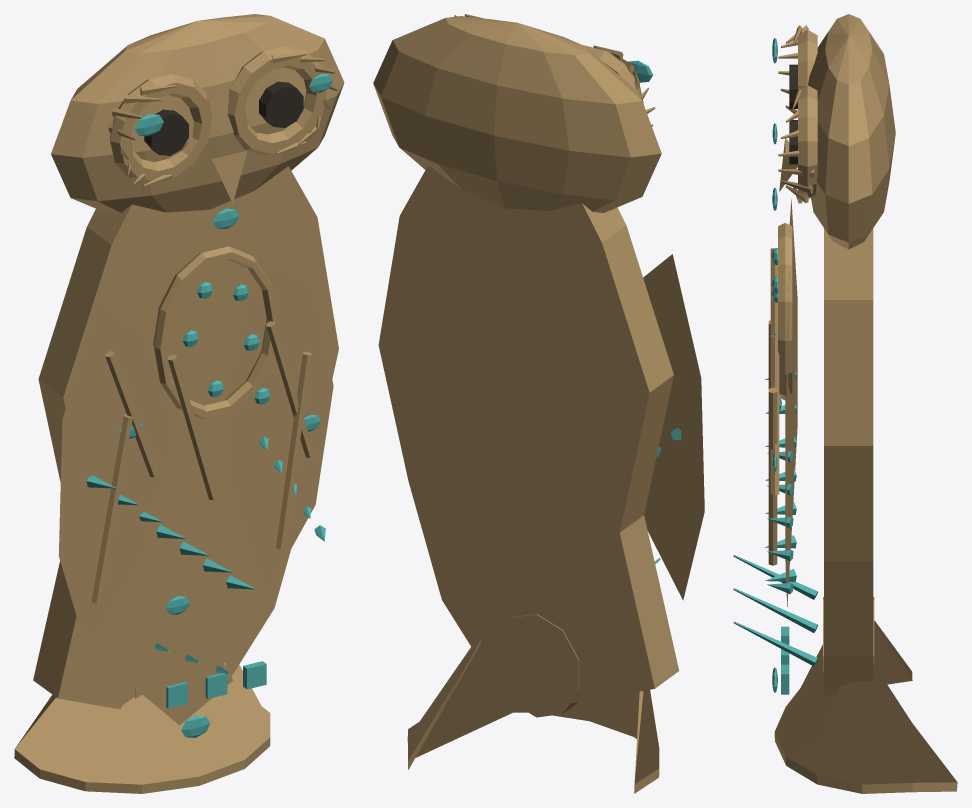
The model's file is OwlStatue.fbx.
The picture shows the model from 3 angles, left to right: view 1: azimuth 30°, elevation 25°; view 2: azimuth 150°, elevation 25°; view 3: azimuth 270°, elevation 25°; orthographic projection.
Visible parts, largest first — view 1: Low Poly Owl Body, Angular Owl Head, Left Stylized Wing Plate, Small Oval Base, Right Stylized Wing Plate, Low Poly Tail Feathers, Chest Crescent Decoration, Left Large Eye Ring, Right Large Eye Ring, Raised Wing Ridge 5, Raised Wing Ridge 2, Right Raised Eye Center (+6 smaller); view 2: Low Poly Owl Body, Angular Owl Head, Left Stylized Wing Plate, Small Oval Base, Short Pedestal Neck, Left Large Eye Ring; view 3: Low Poly Owl Body, Small Oval Base, Angular Owl Head, Chest Crescent Decoration, Right Large Eye Ring, Right Stylized Wing Plate, Raised Wing Ridge 5, Raised Wing Ridge 4, Left Stylized Wing Plate, Left Large Eye Ring, Tail Feather Groove 3, Tail Feather Groove 2 (+1 smaller).
Boxes of the visible parts, x1=… form: Low Poly Owl Body: x1=33, y1=166, x2=338, y2=709; Angular Owl Head: x1=51, y1=14, x2=344, y2=214; Left Stylized Wing Plate: x1=58, y1=298, x2=175, y2=650; Small Oval Base: x1=14, y1=662, x2=270, y2=793; Right Stylized Wing Plate: x1=230, y1=257, x2=333, y2=596; Low Poly Tail Feathers: x1=118, y1=574, x2=232, y2=725; Chest Crescent Decoration: x1=153, y1=246, x2=277, y2=418; Left Large Eye Ring: x1=110, y1=74, x2=211, y2=182; Right Large Eye Ring: x1=227, y1=46, x2=326, y2=155; Raised Wing Ridge 5: x1=276, y1=352, x2=311, y2=549; Raised Wing Ridge 2: x1=92, y1=414, x2=132, y2=603; Right Raised Eye Center: x1=259, y1=81, x2=303, y2=127; Low Poly Owl Body: x1=378, y1=165, x2=679, y2=703; Angular Owl Head: x1=373, y1=16, x2=661, y2=212; Left Stylized Wing Plate: x1=643, y1=254, x2=704, y2=600; Small Oval Base: x1=407, y1=637, x2=659, y2=793; Short Pedestal Neck: x1=494, y1=614, x2=578, y2=717; Left Large Eye Ring: x1=583, y1=45, x2=643, y2=103; Low Poly Owl Body: x1=824, y1=228, x2=873, y2=695; Small Oval Base: x1=774, y1=620, x2=957, y2=793; Angular Owl Head: x1=808, y1=14, x2=895, y2=249; Chest Crescent Decoration: x1=778, y1=223, x2=792, y2=400; Right Large Eye Ring: x1=798, y1=85, x2=817, y2=198; Right Stylized Wing Plate: x1=785, y1=271, x2=795, y2=606; Raised Wing Ridge 5: x1=768, y1=387, x2=777, y2=565; Raised Wing Ridge 4: x1=770, y1=335, x2=779, y2=494; Left Stylized Wing Plate: x1=785, y1=199, x2=797, y2=535; Left Large Eye Ring: x1=798, y1=30, x2=817, y2=89; Tail Feather Groove 3: x1=733, y1=621, x2=817, y2=666; Tail Feather Groove 2: x1=733, y1=588, x2=817, y2=632.
Size of the model in its own units: 174 by 392 by 110.
